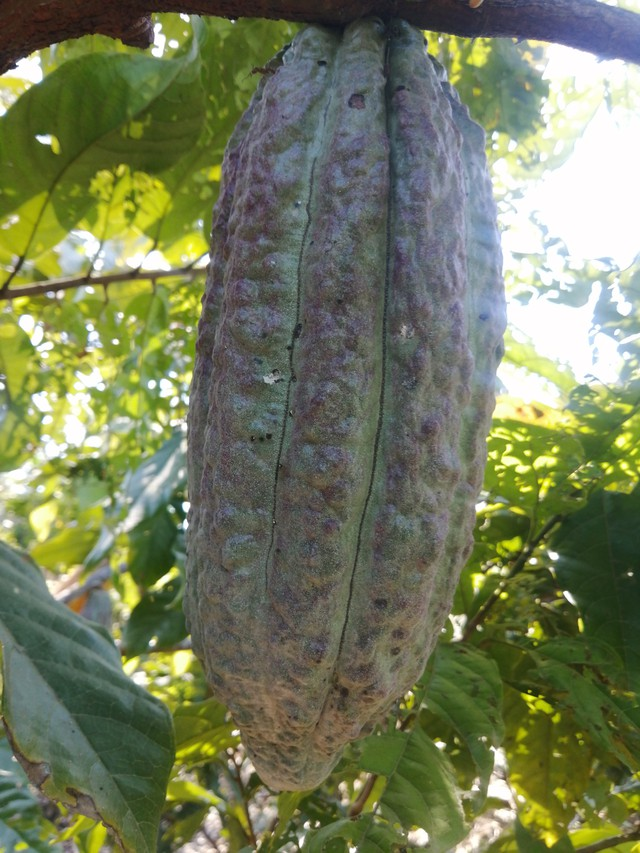Health: (159, 10, 533, 798)
